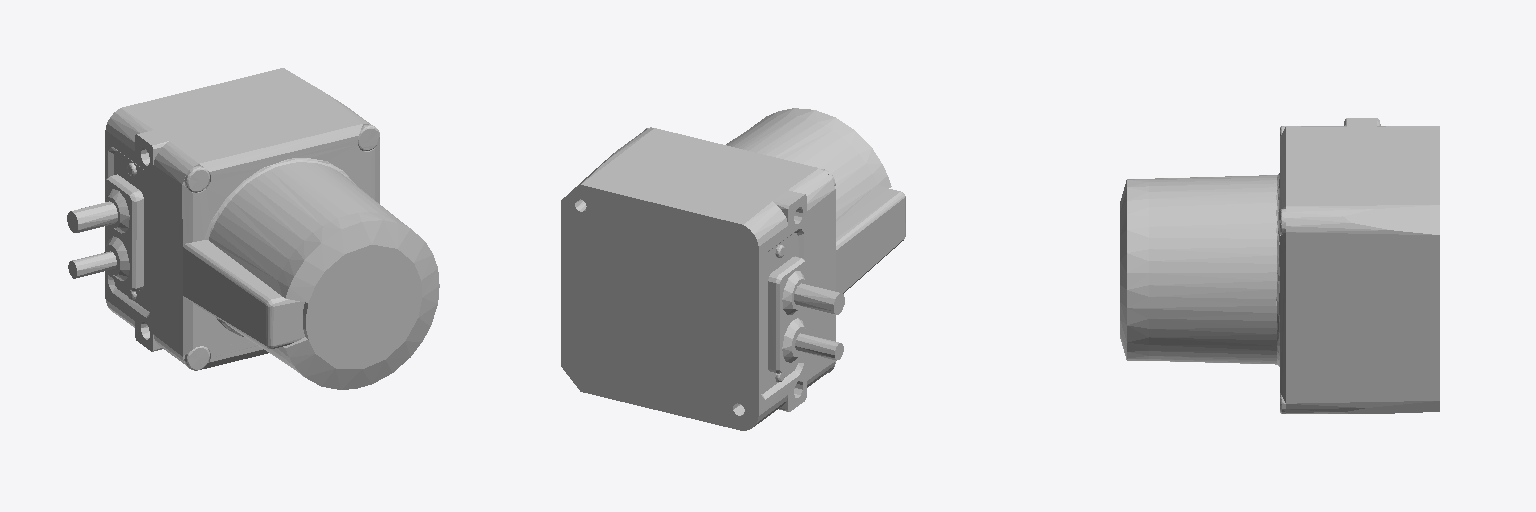
File: hokuyo_ust10.obj
3 views of the same model, side by side, from view 1: azimuth 30°, elevation 25°; view 2: azimuth 150°, elevation 25°; view 3: azimuth 270°, elevation 25° (orthographic).
Visible parts, largest first — view 1: obj1; view 2: obj1; view 3: obj1.
Part boxes in pixels (x1,y1,x2,y2): obj1: (67, 68, 439, 389); obj1: (561, 108, 905, 430); obj1: (1120, 118, 1439, 413).
Size of the model in its own units: 0.0643 by 0.05 by 0.07.